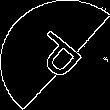P_SE: (22, 25, 88, 85)
